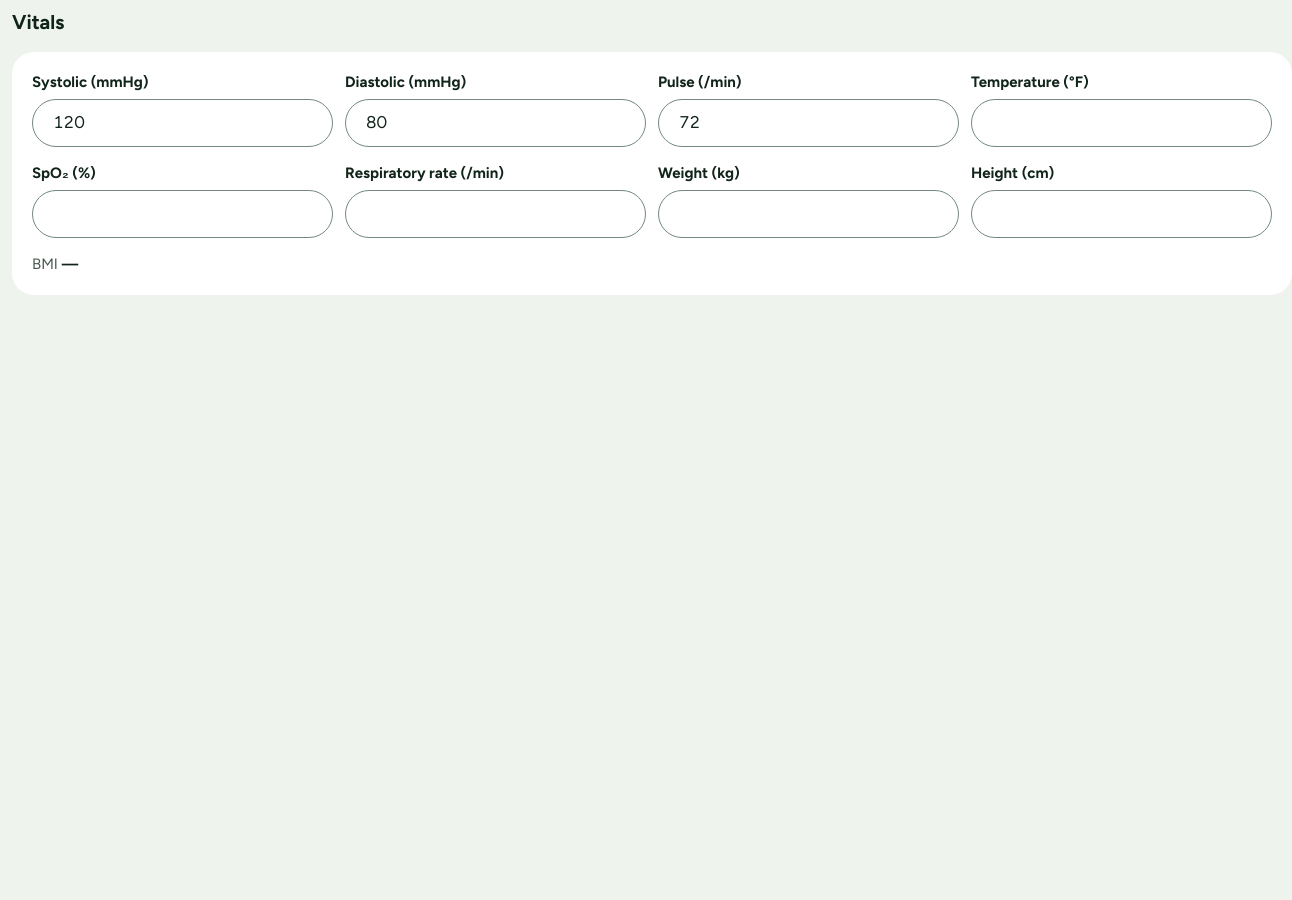
Test: VitalsSection (plan §12.2; D202, D206) › saves what is typed from the copy read, says so, and starts again from what was saved
In the field labelled "Temperature (°F)": (1122, 123) [971,99,1272,147], type "98.6"
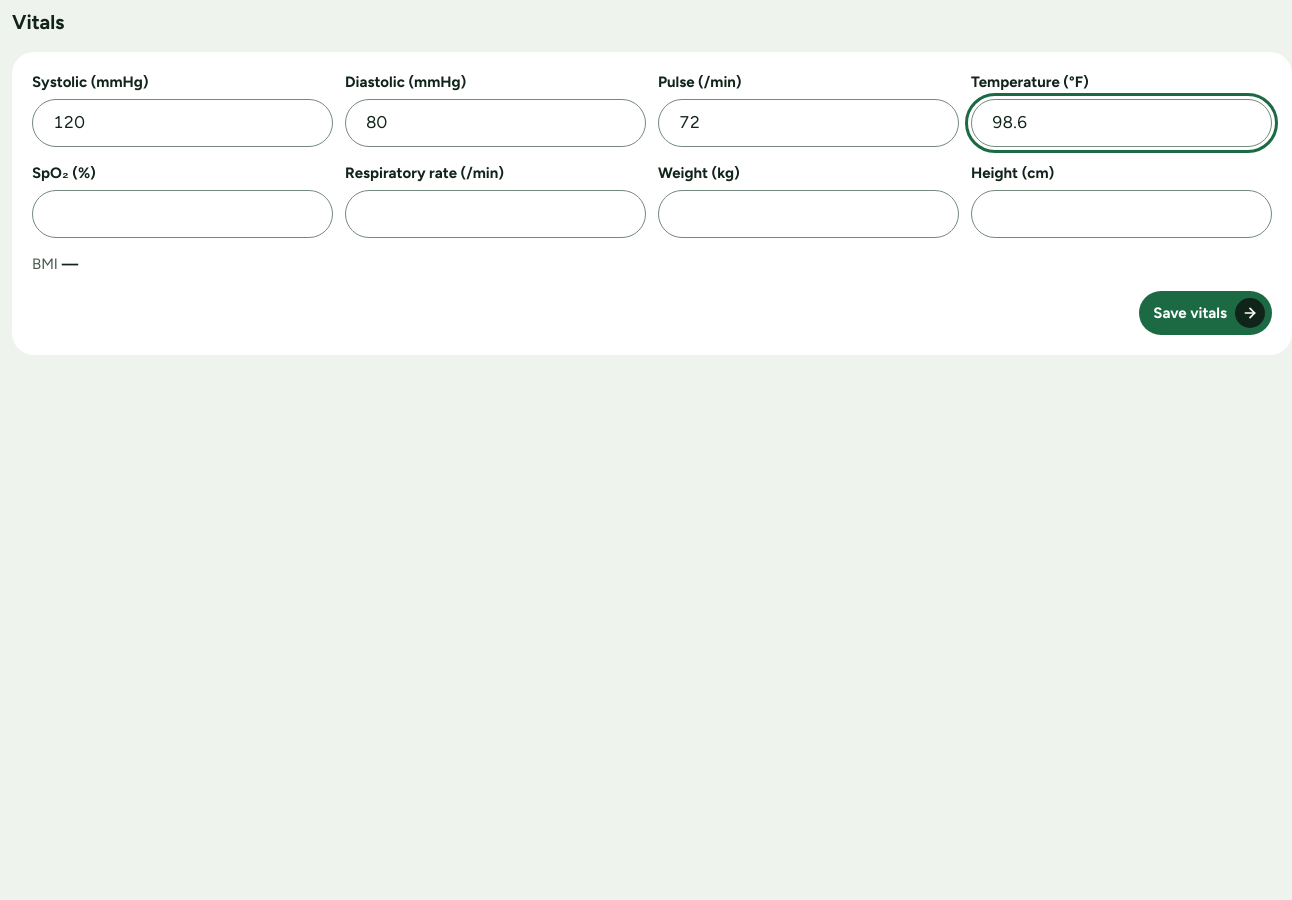
Click the button "Save vitals": (1206, 313) [1139,291,1272,335]
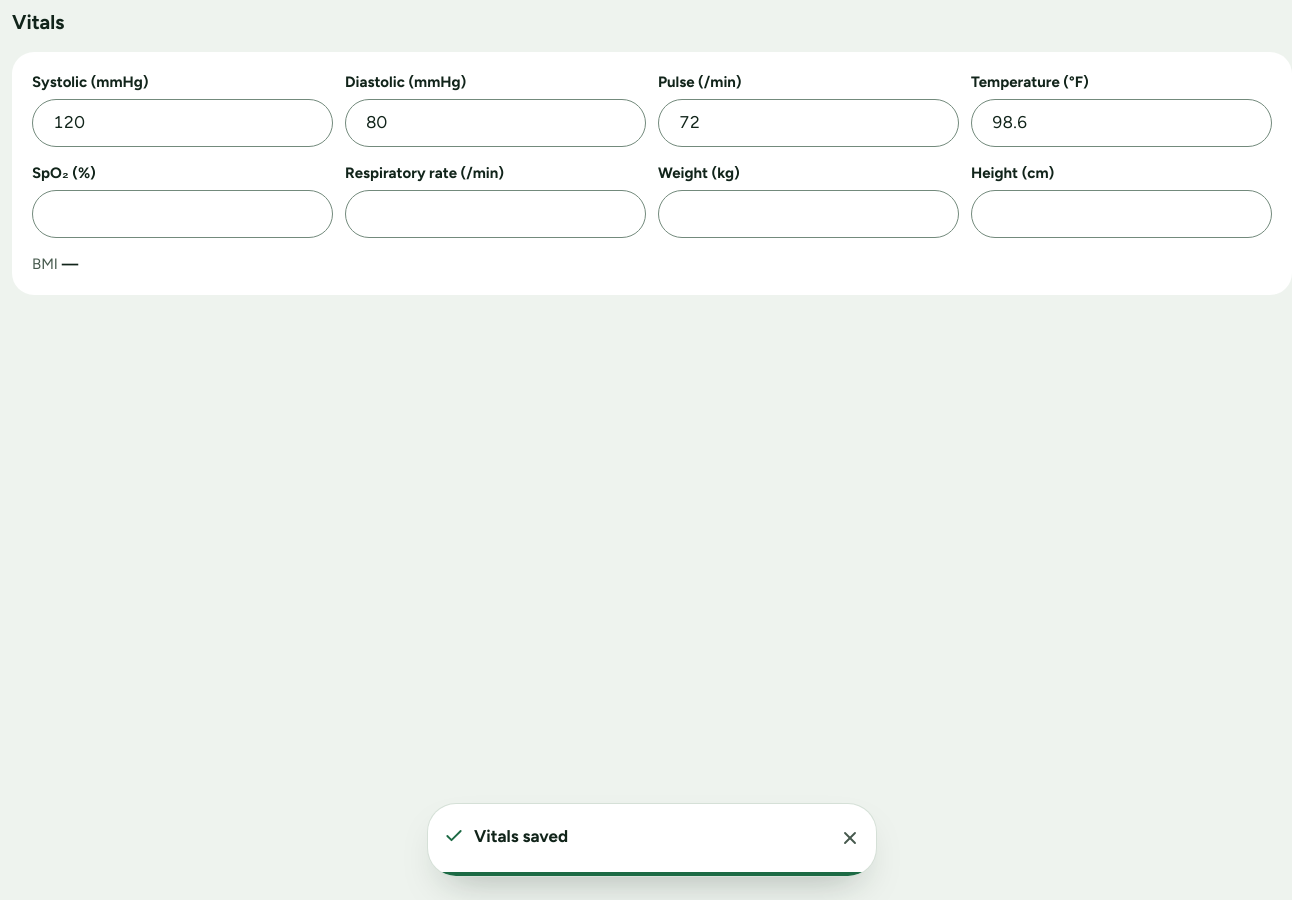
Expected: the button "Save vitals" is gone
